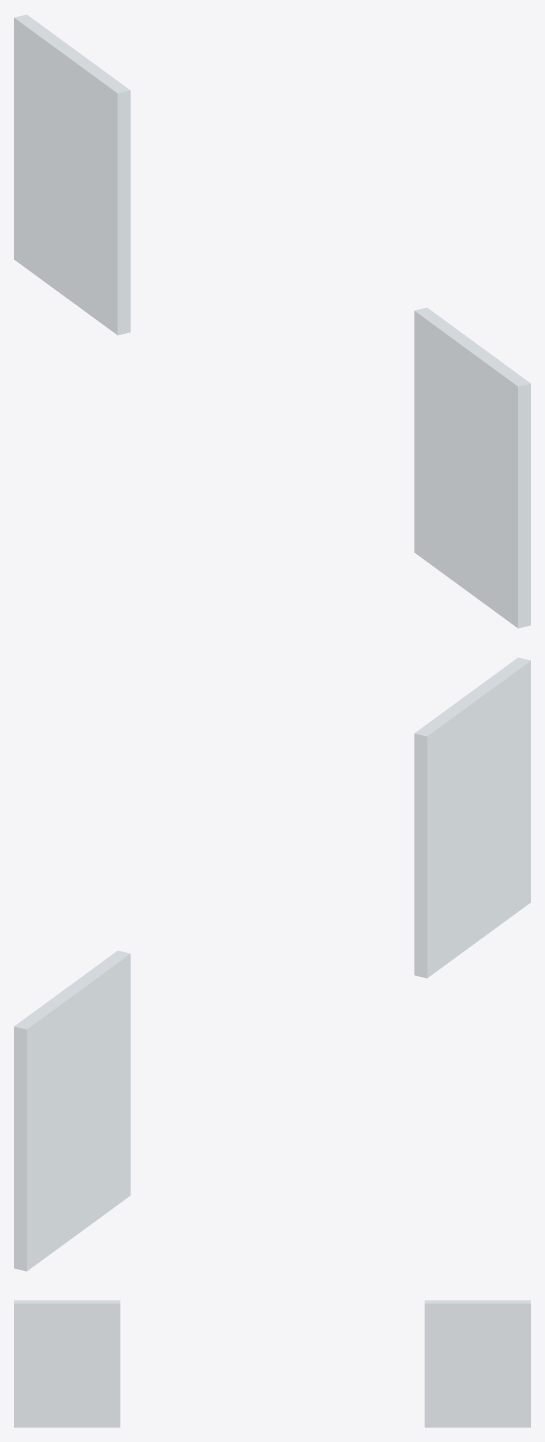
The model's file is school_bus_rear_window.glb.
3 renders of one model, top to bottom at view 1: azimuth 30°, elevation 25°; view 2: azimuth 150°, elevation 25°; view 3: azimuth 270°, elevation 25°, orthographic. The views are drawn at different scales.
Visible parts, largest first — view 1: body:compound; view 2: body:compound; view 3: body:compound.
Part boxes in pixels (bbox=[...]): body:compound: bbox=[14, 14, 530, 628]; body:compound: bbox=[14, 657, 530, 1271]; body:compound: bbox=[14, 1300, 530, 1427].
Bounding box in the file's own units: 0.0312 × 0.5625 × 2.12.
